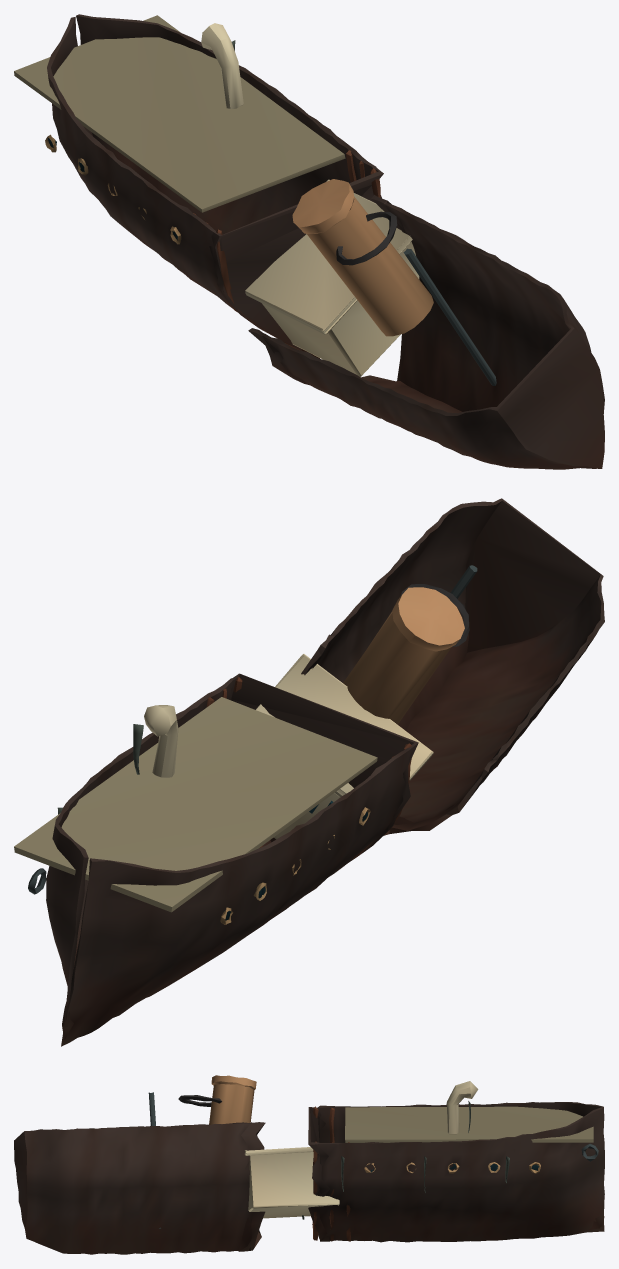
Rendered from wreck_steamer.glb.
3 views of the same model, one above another, from view 1: azimuth 30°, elevation 25°; view 2: azimuth 150°, elevation 25°; view 3: azimuth 270°, elevation 25° (orthographic). The views are drawn at different scales.
Visible parts, largest first — view 1: Steamer; view 2: Steamer; view 3: Steamer.
Boxes of the visible parts, x1,y1,x2,y2 form: Steamer: (14, 14, 604, 469); Steamer: (14, 498, 604, 1046); Steamer: (14, 1075, 604, 1254).
Size of the model in its own units: 5.69 by 6.6 by 21.5.
